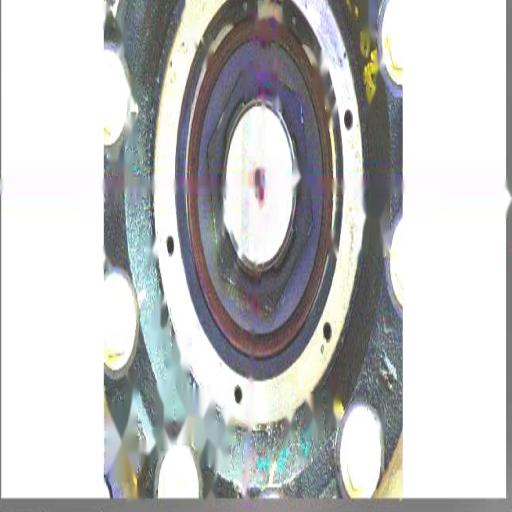center: (250, 160, 264, 190)
notch: (257, 34, 272, 56)
